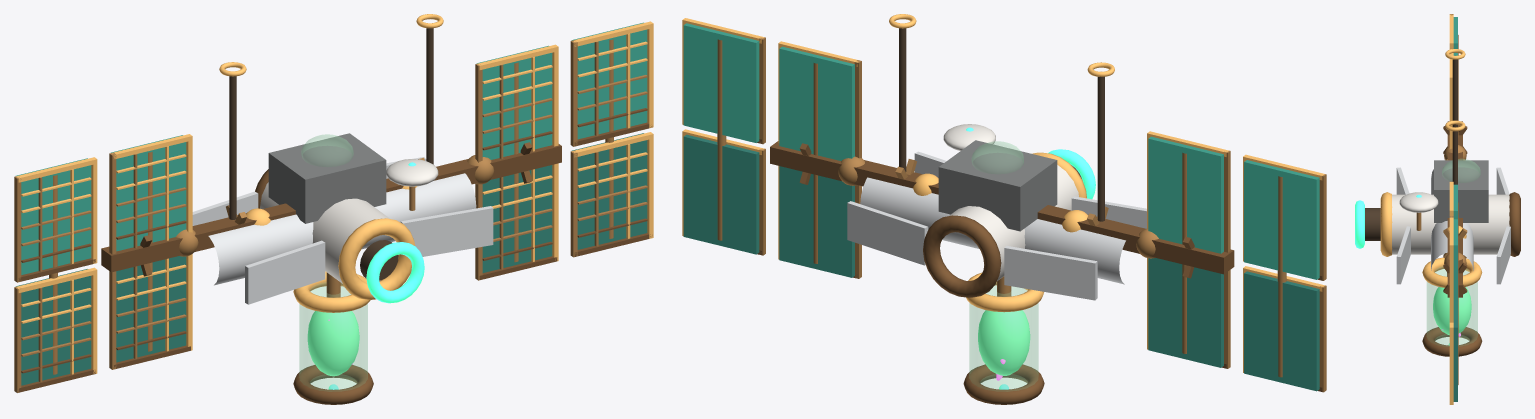
The model's file is iss_space_mission.glb.
3 renders of one model, left to right at view 1: azimuth 30°, elevation 25°; view 2: azimuth 150°, elevation 25°; view 3: azimuth 270°, elevation 25°, orthographic. The views are drawn at different scales.
Visible parts, largest first — view 1: ISS_Service_Module, SampleCapsule_Glass, SolarArray_R_0.79_Upper_Cell, SolarArray_R_0.79_Lower_Cell, SolarArray_L_0.79_Lower_Cell, SolarArray_L_0.79_Upper_Cell, SolarArray_R_0.52_Upper_Cell, ISS_Truss_Main, SolarArray_L_0.52_Upper_Cell, SolarArray_L_0.52_Lower_Cell, SolarArray_R_0.52_Lower_Cell, ISS_Node_Left (+40 smaller); view 2: ISS_Service_Module, SolarArray_R_0.79_Upper_Cell, SolarArray_L_0.79_Upper_Cell, SolarArray_R_0.79_Lower_Cell, SolarArray_L_0.79_Lower_Cell, SolarArray_L_0.52_Upper_Cell, SolarArray_R_0.52_Upper_Cell, SolarArray_L_0.52_Lower_Cell, SolarArray_R_0.52_Lower_Cell, SampleCapsule_Glass, ISS_Truss_Main, ISS_Radiator_1 (+25 smaller); view 3: ISS_Lab_Module_Main, ISS_Service_Module, SampleCapsule_Glass, SampleCapsule_Culture, SampleCapsule_RingBottom, ISS_Node_Right, SampleCapsule_RingTop, ISS_Lab_Module_Ring_Front, ISS_Lab_Module_Ring_Back, ISS_Antenna_Dish, ISS_Truss_Main, ISS_Cupola (+16 smaller).
Boxes of the visible parts, <box> form: ISS_Service_Module: <box>268,133,386,223</box>; SampleCapsule_Glass: <box>299,282,367,391</box>; SolarArray_R_0.79_Upper_Cell: <box>571,22,647,139</box>; SolarArray_R_0.79_Lower_Cell: <box>572,133,647,249</box>; SolarArray_L_0.79_Lower_Cell: <box>15,269,91,385</box>; SolarArray_L_0.79_Upper_Cell: <box>16,158,91,274</box>; SolarArray_R_0.52_Upper_Cell: <box>476,45,552,159</box>; ISS_Truss_Main: <box>101,144,561,272</box>; SolarArray_L_0.52_Upper_Cell: <box>111,135,186,251</box>; SolarArray_L_0.52_Lower_Cell: <box>116,256,186,362</box>; SolarArray_R_0.52_Lower_Cell: <box>482,165,552,272</box>; ISS_Node_Left: <box>208,214,313,285</box>; ISS_Service_Module: <box>938,140,1057,231</box>; SolarArray_R_0.79_Upper_Cell: <box>683,23,759,142</box>; SolarArray_L_0.79_Upper_Cell: <box>1244,160,1319,279</box>; SolarArray_R_0.79_Lower_Cell: <box>683,134,759,254</box>; SolarArray_L_0.79_Lower_Cell: <box>1244,271,1319,391</box>; SolarArray_L_0.52_Upper_Cell: <box>1148,136,1223,253</box>; SolarArray_R_0.52_Upper_Cell: <box>779,46,854,160</box>; SolarArray_L_0.52_Lower_Cell: <box>1148,258,1223,367</box>; SolarArray_R_0.52_Lower_Cell: <box>779,166,854,277</box>; SampleCapsule_Glass: <box>969,282,1038,391</box>; ISS_Truss_Main: <box>770,141,1234,274</box>; ISS_Radiator_1: <box>1004,245,1097,300</box>; ISS_Lab_Module_Main: <box>1392,194,1509,254</box>; ISS_Service_Module: <box>1434,160,1488,222</box>; SampleCapsule_Glass: <box>1427,267,1477,346</box>; SampleCapsule_Culture: <box>1433,287,1471,334</box>; SampleCapsule_RingBottom: <box>1422,327,1482,356</box>; ISS_Node_Right: <box>1431,221,1473,270</box>; SampleCapsule_RingTop: <box>1422,257,1482,287</box>; ISS_Lab_Module_Ring_Front: <box>1380,192,1392,256</box>; ISS_Lab_Module_Ring_Back: <box>1509,192,1520,256</box>; ISS_Antenna_Dish: <box>1399,192,1438,212</box>; ISS_Truss_Main: <box>1447,121,1462,297</box>; ISS_Cupola: <box>1442,159,1480,182</box>.
Bounding box in the file's own units: 1.81 × 0.9493 × 0.5478.
